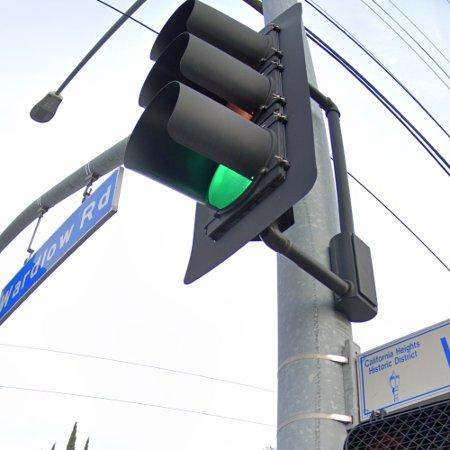traffic lights: (49, 0, 318, 284)
